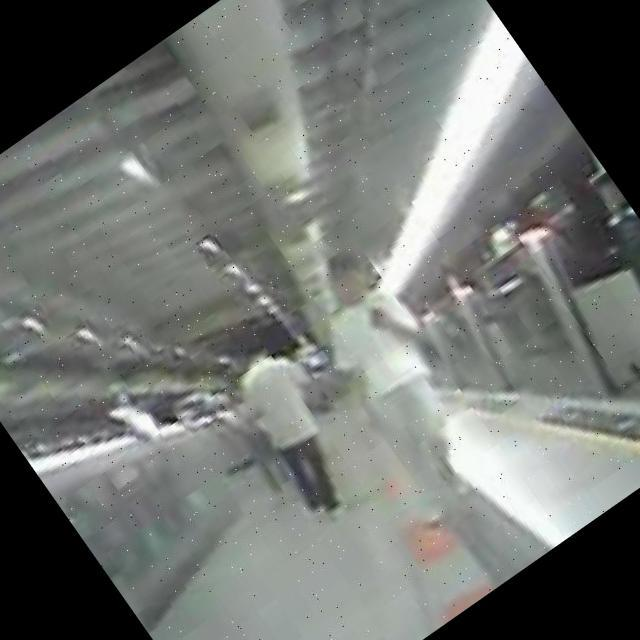person: (278, 236, 518, 520), (204, 322, 384, 528)
